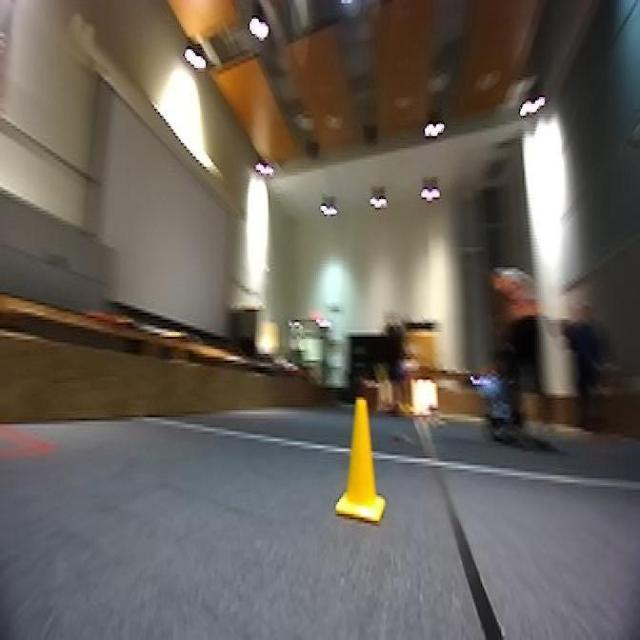frc_cone: (336, 397, 391, 519)
